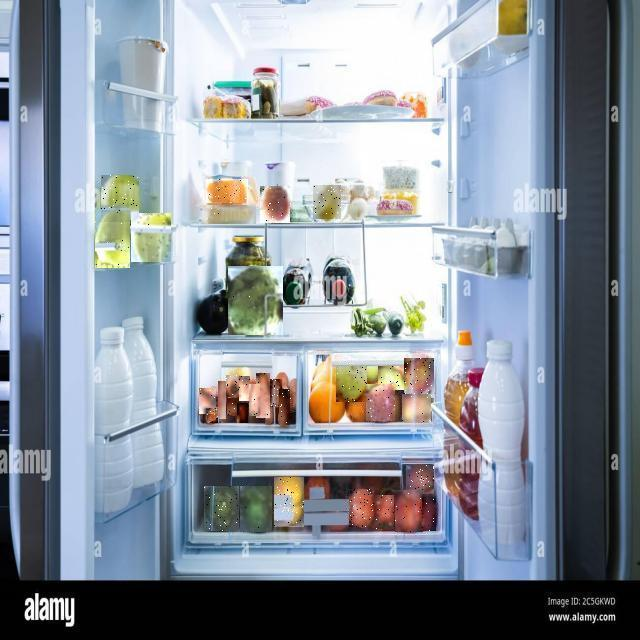Apple: (95, 209, 130, 268), (131, 213, 171, 262), (101, 176, 139, 222), (404, 358, 434, 398), (336, 366, 367, 402), (261, 186, 291, 223), (366, 384, 395, 421), (402, 394, 431, 422), (379, 366, 405, 390)
Carrot: (256, 373, 270, 418), (200, 388, 218, 414), (280, 389, 292, 425), (249, 384, 260, 416), (270, 379, 282, 407), (226, 375, 240, 397), (219, 381, 227, 419), (239, 376, 250, 401), (237, 403, 248, 423), (227, 398, 239, 415), (207, 408, 218, 423)
Cheese: (199, 205, 256, 224), (206, 179, 248, 203)
Green bell pepper: (204, 486, 239, 531), (240, 486, 272, 532)
Lemon: (313, 185, 341, 219)
Lettuce: (228, 266, 283, 335)
Tomato Paste: (395, 490, 423, 532), (349, 489, 374, 527), (406, 465, 434, 497), (374, 495, 394, 529), (422, 494, 436, 531)
Yellow bell pepper: (274, 478, 304, 530)
